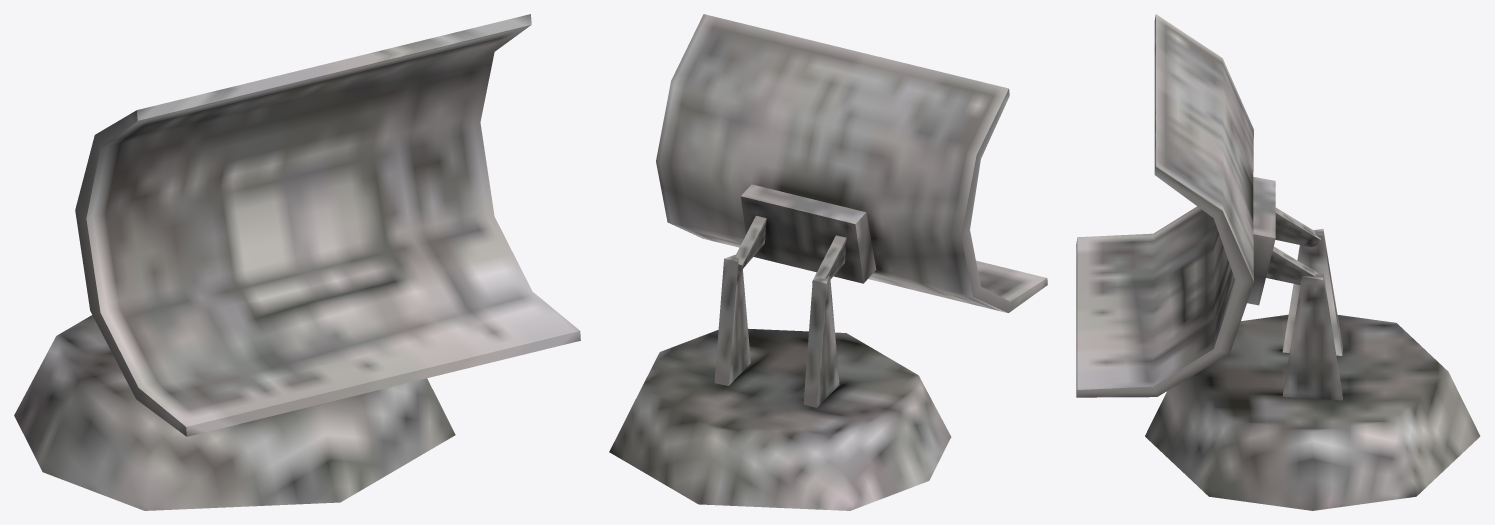
File: corellian_corvette_radar_s01_l2.fbx
3 renders of one model, left to right at view 1: azimuth 30°, elevation 25°; view 2: azimuth 150°, elevation 25°; view 3: azimuth 270°, elevation 25°, orthographic. The views are drawn at different scales.
Parts seen in each view (by area): view 1: mesh_node; view 2: mesh_node; view 3: mesh_node.
Boxes of the visible parts, x1,y1,x2,y2 form: mesh_node: [14, 14, 580, 510]; mesh_node: [609, 14, 1047, 510]; mesh_node: [1076, 14, 1480, 510].
Size of the model in its own units: 10.97 by 11.58 by 12.25.
1 material, 1 textured.
